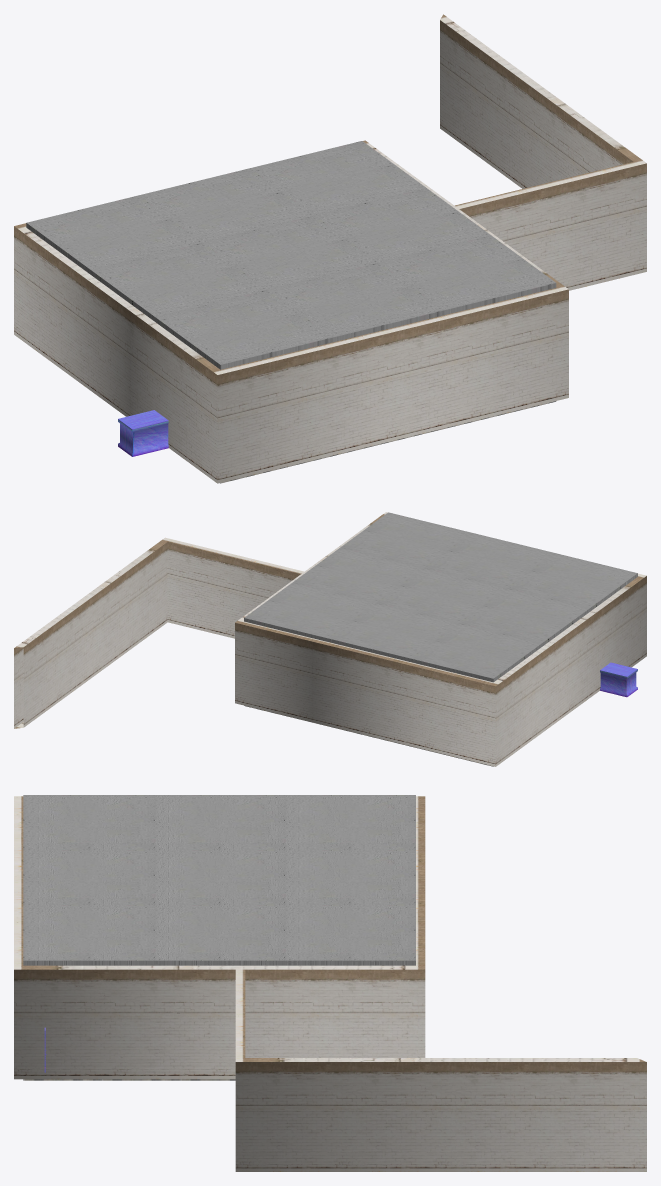
The model's file is Cafeteria.glb.
3 renders of one model, top to bottom at view 1: azimuth 30°, elevation 25°; view 2: azimuth 150°, elevation 25°; view 3: azimuth 270°, elevation 25°, orthographic. The views are drawn at different scales.
Parts seen in each view (by area): view 1: Cafeteria; view 2: Cafeteria; view 3: Cafeteria.
Part boxes in pixels (x1,y1,x2,y2): Cafeteria: [14, 14, 646, 483]; Cafeteria: [14, 512, 646, 766]; Cafeteria: [14, 795, 646, 1171].
Bounding box in the file's own units: 186 × 36.63 × 175.
26 materials, 25 textured.
